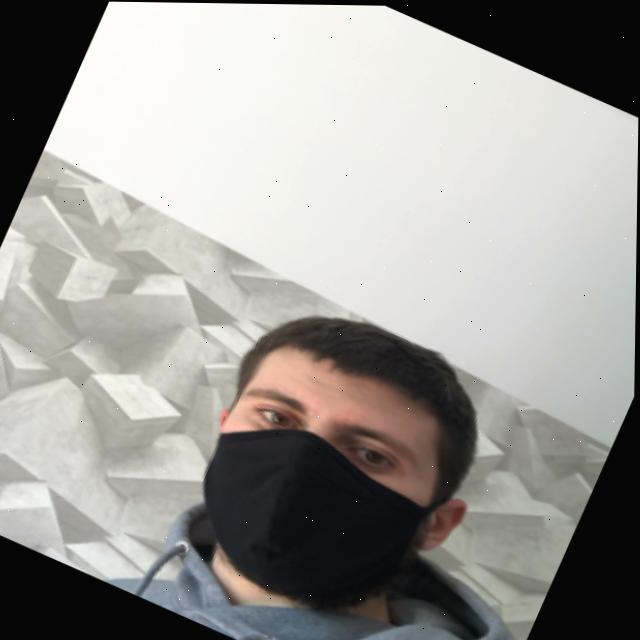Mask: (159, 375, 480, 640)
